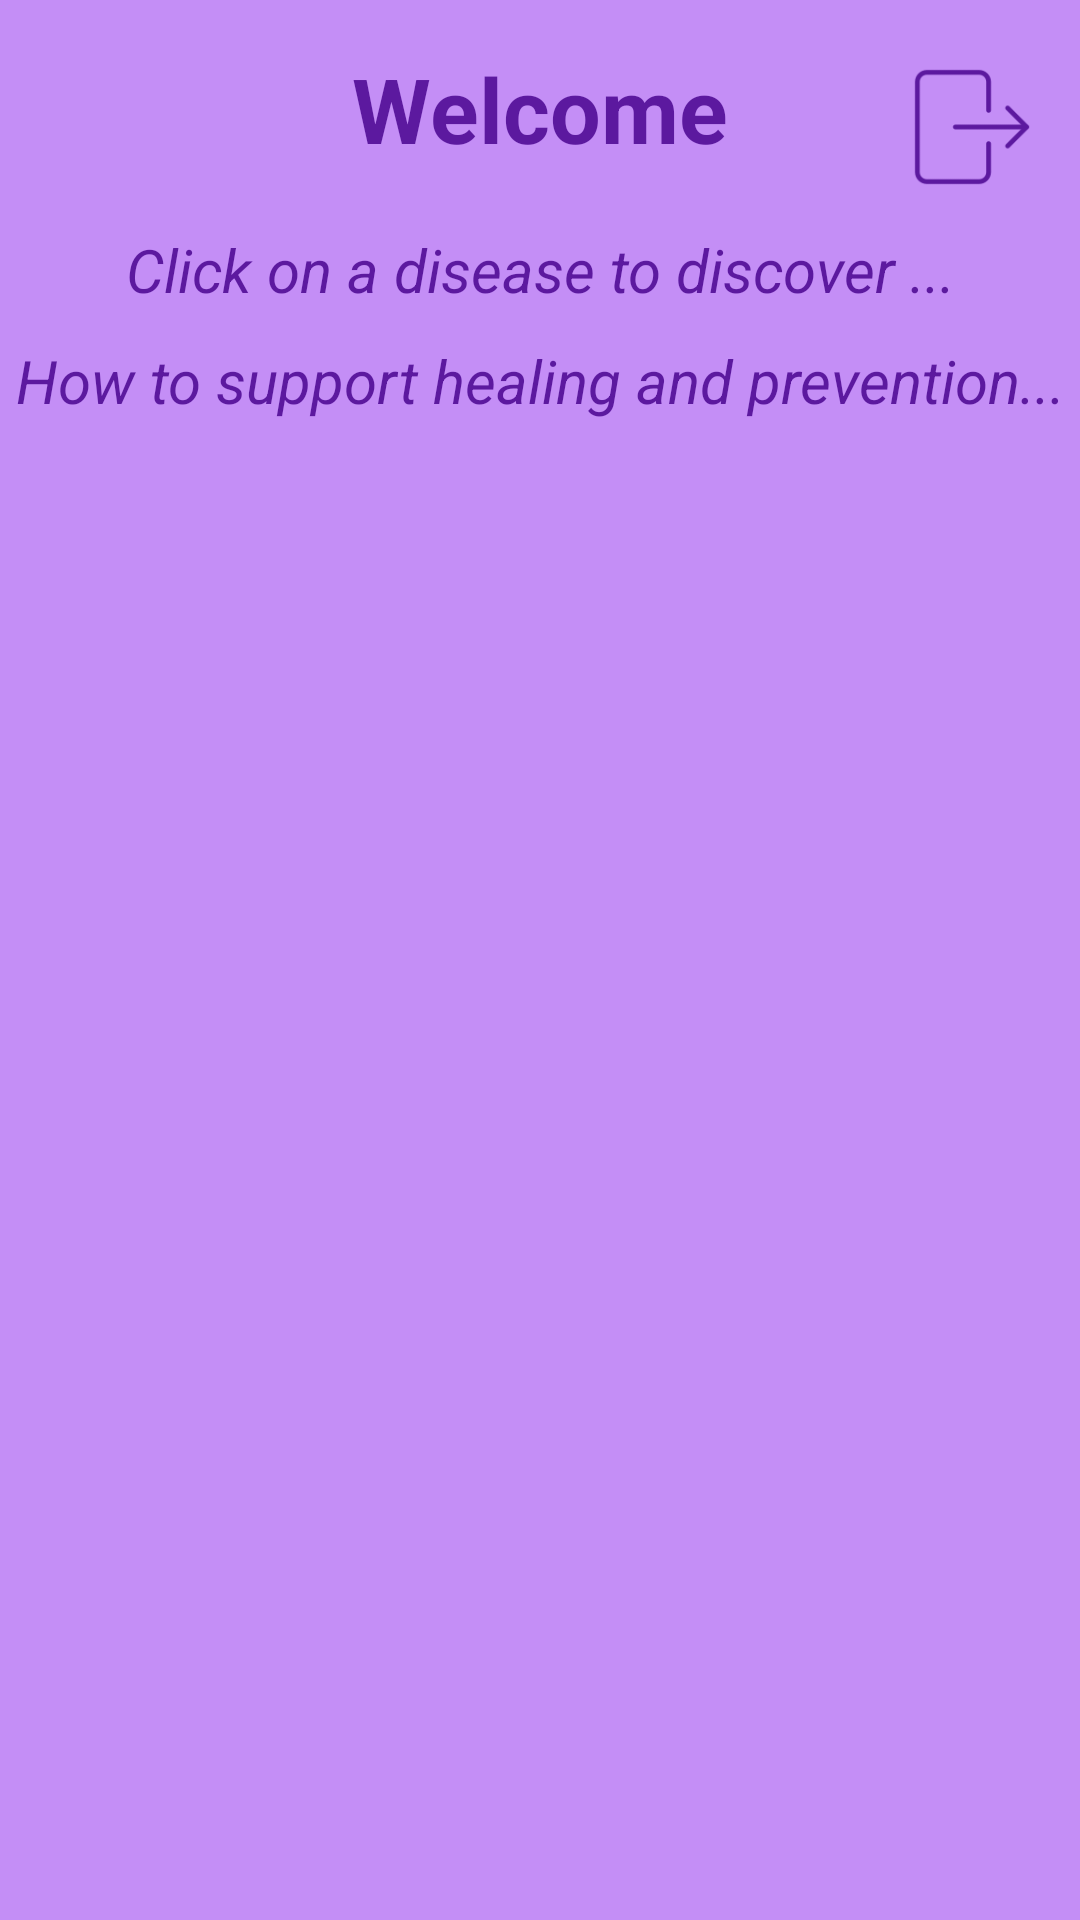

Point at icon controls on the screen. Image size 1080*1920, points as (x,y).
exit: (972,127)
